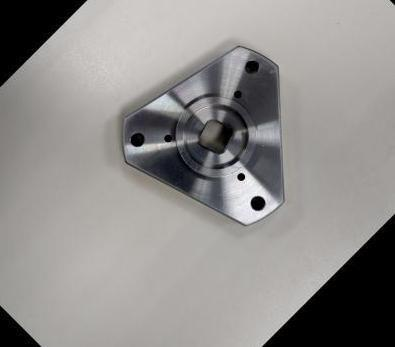hole: (237, 53, 265, 81), (244, 190, 271, 217), (124, 126, 150, 152), (227, 85, 246, 103), (233, 169, 249, 184), (161, 130, 176, 145)
